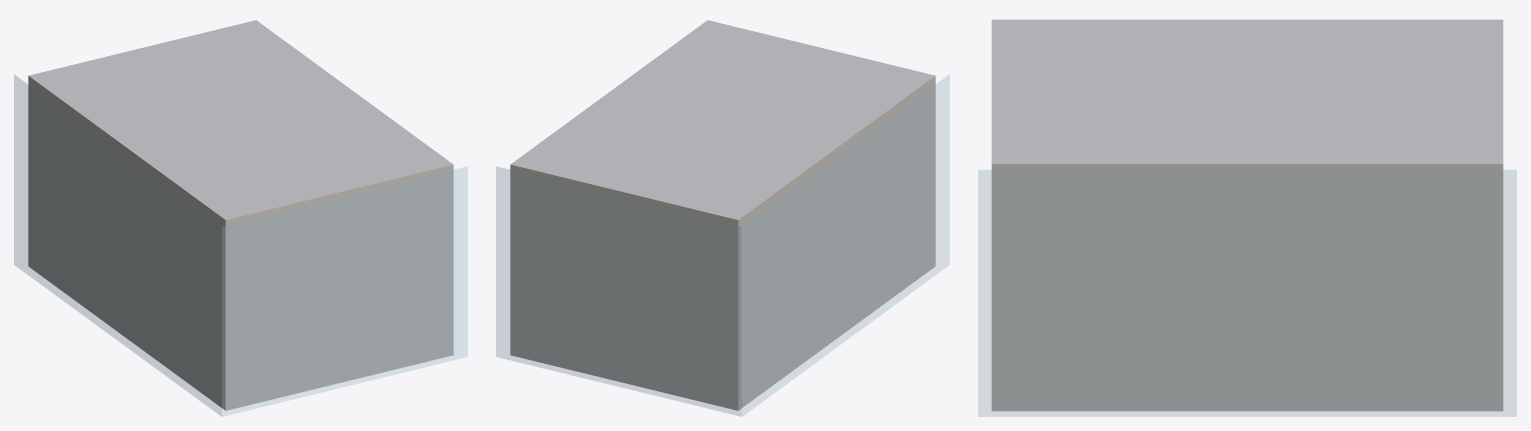
3 views of the same model, side by side, from view 1: azimuth 30°, elevation 25°; view 2: azimuth 150°, elevation 25°; view 3: azimuth 270°, elevation 25° (orthographic). The views are drawn at different scales.
Visible parts, largest first — view 1: Kaca Jendela, Dinding Bata, Atap Beton; view 2: Kaca Jendela, Dinding Bata, Atap Beton; view 3: Kaca Jendela, Dinding Bata, Atap Beton.
Part boxes in pixels (x1,y1,x2,y2): Kaca Jendela: (14, 74, 467, 416); Dinding Bata: (28, 76, 453, 410); Atap Beton: (29, 20, 453, 219); Kaca Jendela: (496, 74, 949, 416); Dinding Bata: (510, 76, 935, 410); Atap Beton: (510, 20, 934, 219); Kaca Jendela: (978, 170, 1516, 416); Dinding Bata: (991, 164, 1503, 411); Atap Beton: (991, 19, 1503, 163).
Size of the model in its own units: 21.6 by 16 by 31.6.
